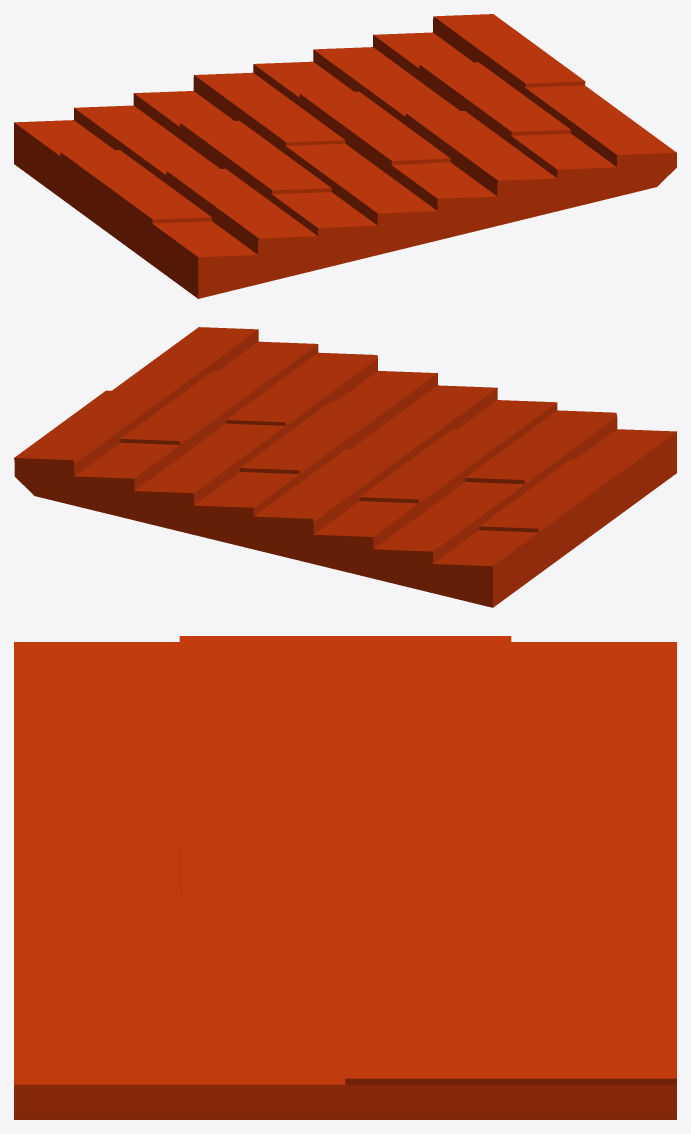
The model's file is Building_Modular_Roof_Piece_09.fbx.
3 renders of one model, top to bottom at view 1: azimuth 30°, elevation 25°; view 2: azimuth 150°, elevation 25°; view 3: azimuth 270°, elevation 25°, orthographic. The views are drawn at different scales.
Parts seen in each view (by area): view 1: Model; view 2: Model; view 3: Model.
Boxes of the visible parts, x1,y1,x2,y2 form: Model: (14,14,676,298); Model: (14,327,676,607); Model: (14,636,676,1119).
Bounding box in the file's own units: 638 × 58.17 × 425.
